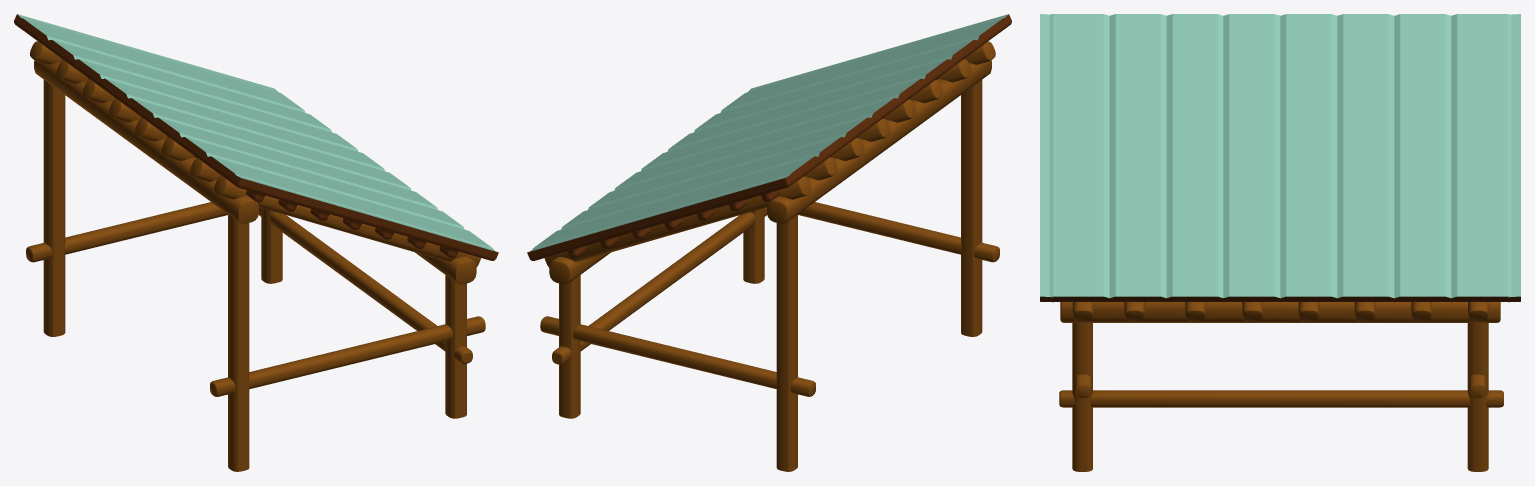
The model's file is shed.fbx.
3 renders of one model, left to right at view 1: azimuth 30°, elevation 25°; view 2: azimuth 150°, elevation 25°; view 3: azimuth 270°, elevation 25°, orthographic. The views are drawn at different scales.
Parts seen in each view (by area): view 1: wood shed; view 2: wood shed; view 3: wood shed.
Boxes of the visible parts, <box> form: wood shed: <box>14,14,498,471</box>; wood shed: <box>527,14,1011,471</box>; wood shed: <box>1040,14,1520,471</box>.
Bounding box in the file's own units: 341 × 372 × 491.
